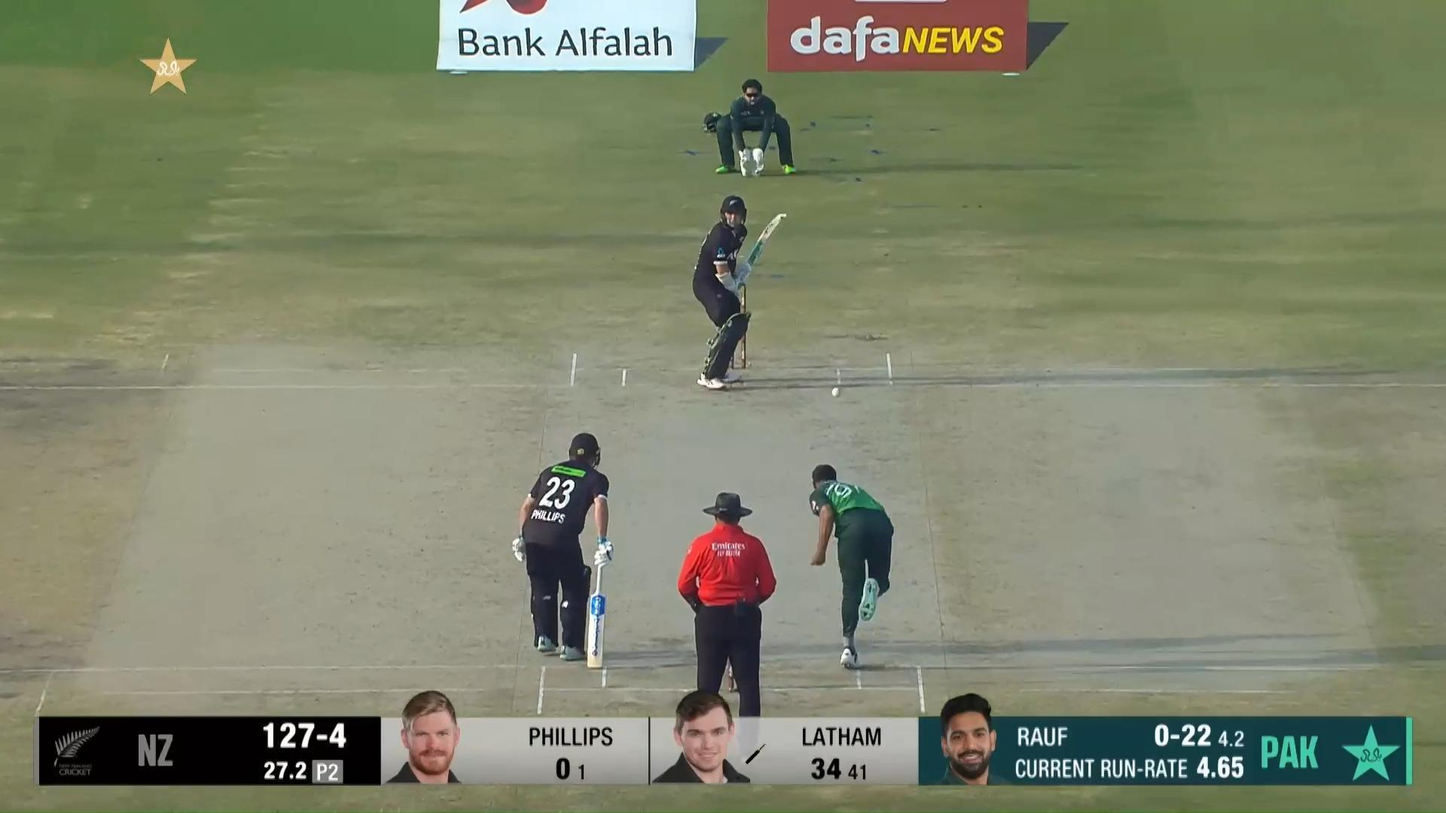BM 1: (693, 195, 788, 391)
BO: (810, 462, 895, 671)
